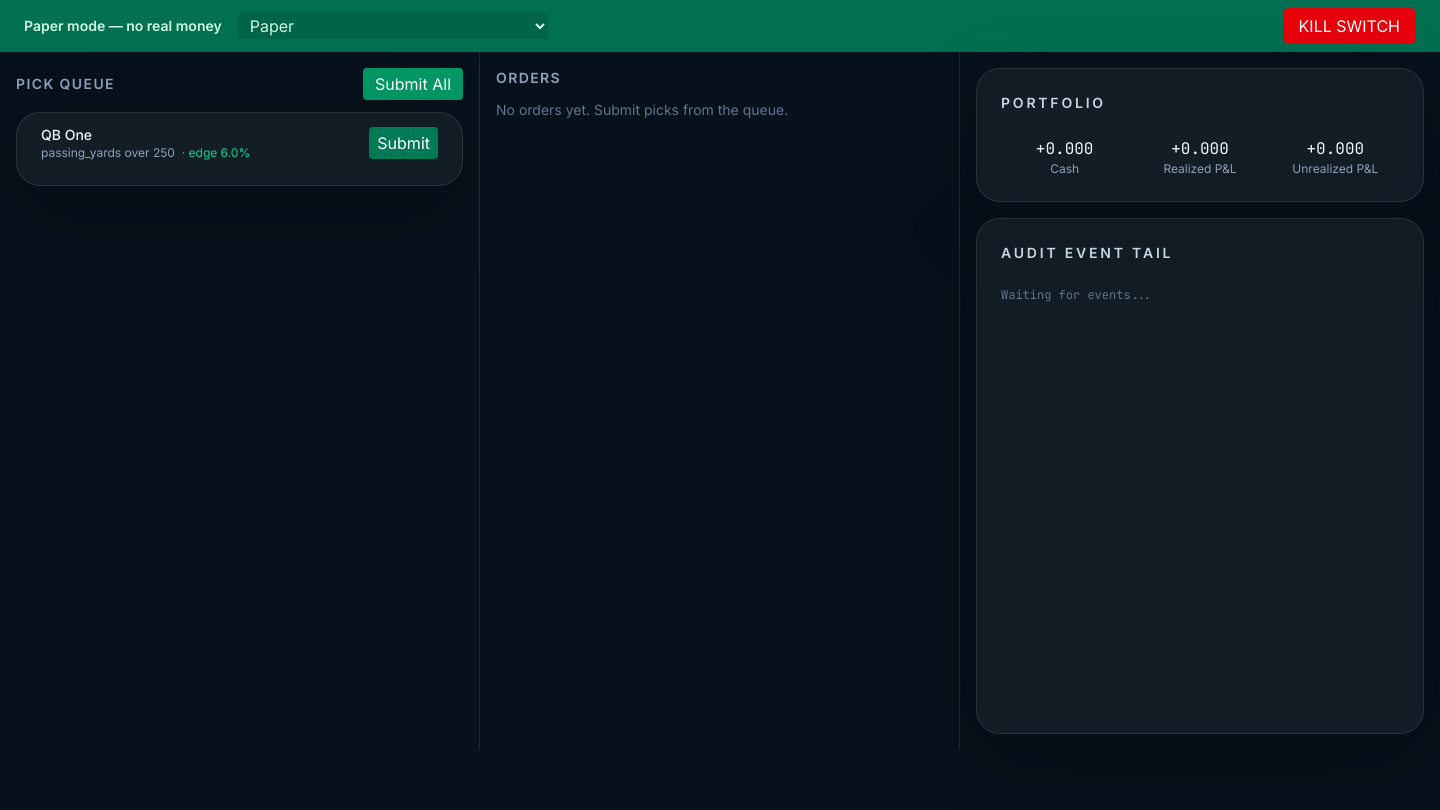
Test case: ExecutionPage › flips intent to canceled after cancel click
Expected: the text "QB One" is shown, top-left (41, 126), bottom-right (92, 143)
What coordinates should you click on to do the following:
click the button "Submit"
I would click on:
 (404, 143)
Its box is top-left (369, 127), bottom-right (438, 159).
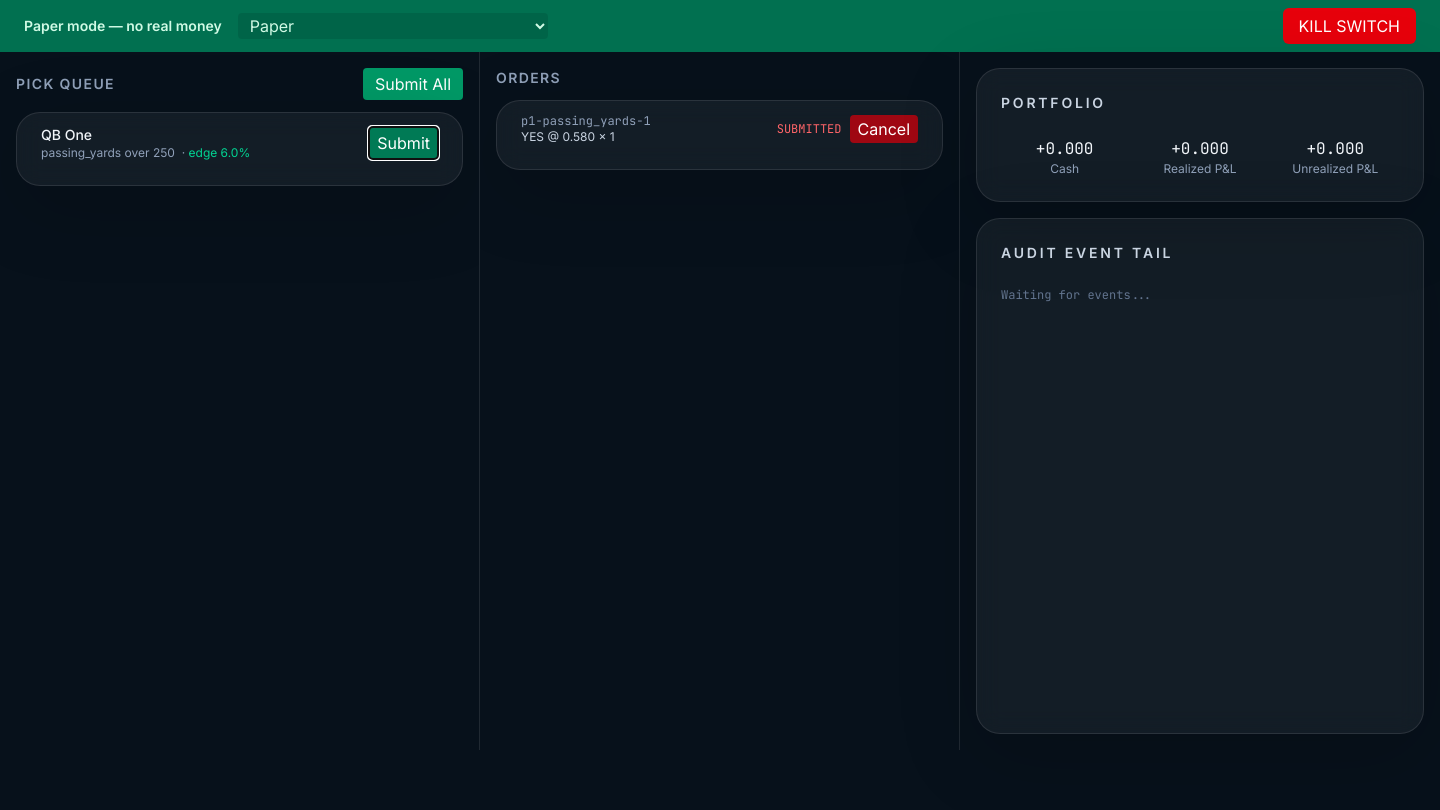
Result: the button "Cancel" is shown
What coordinates should you click on to do the following:
click the button "Cancel"
I would click on:
 (884, 129)
Its box is top-left (850, 115), bottom-right (918, 143).
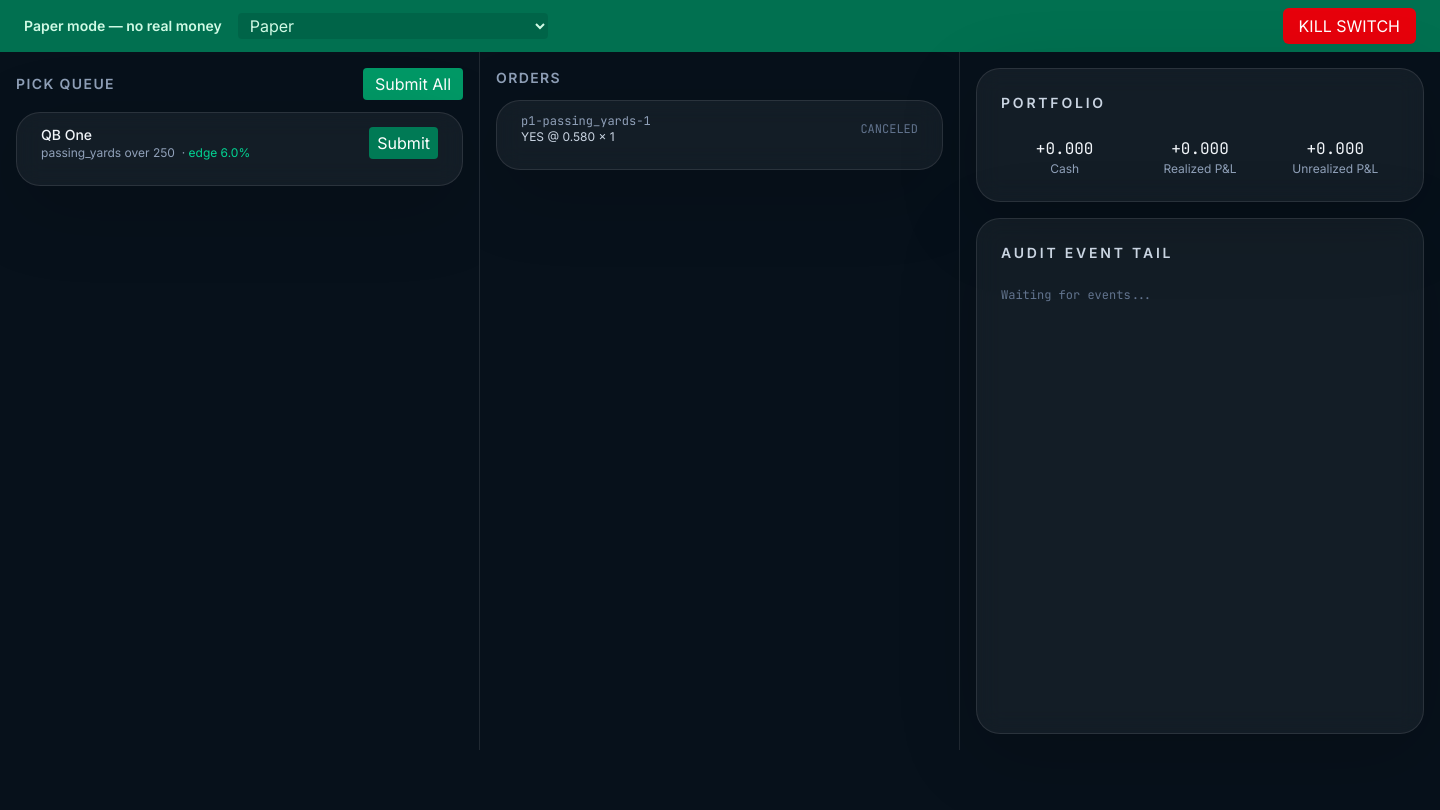
Result: the text "canceled" is shown at top-left (860, 121), bottom-right (918, 137)
